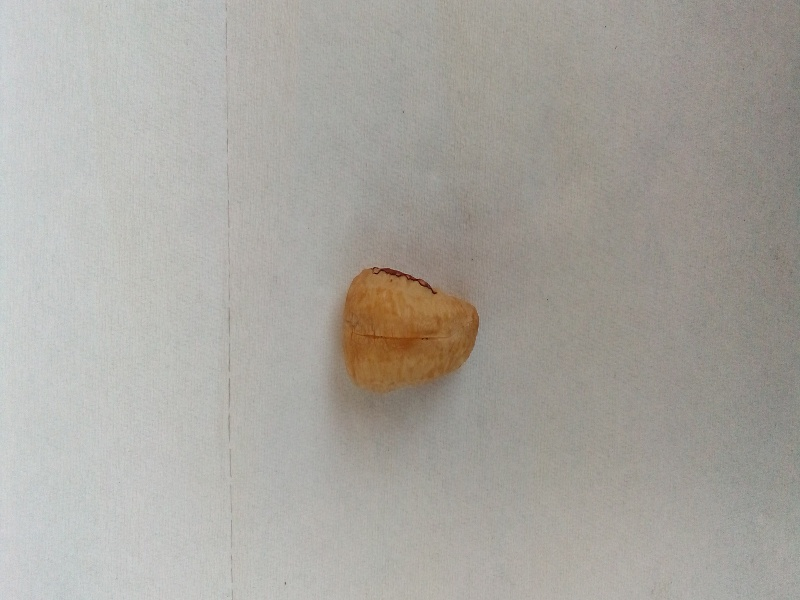cashew: (308, 222, 513, 430)
